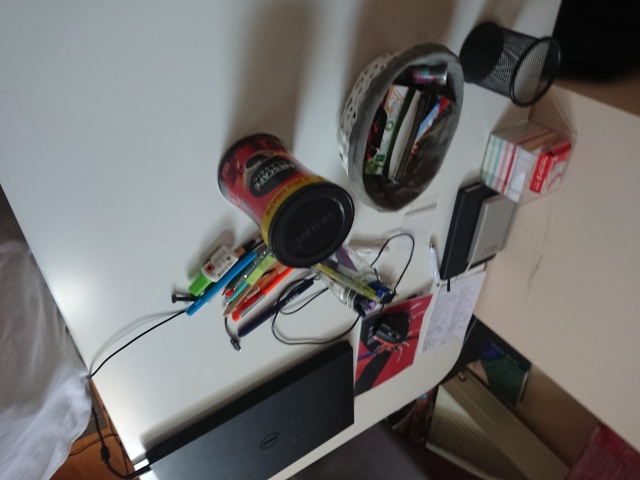Nescafe Classic 225g: (213, 129, 358, 271)
